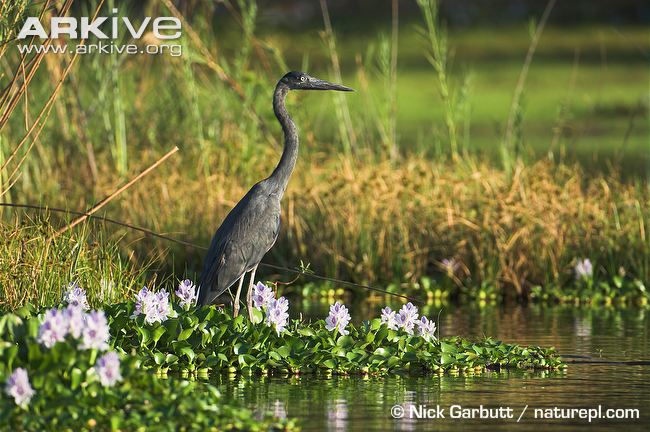heron: (188, 65, 360, 324)
